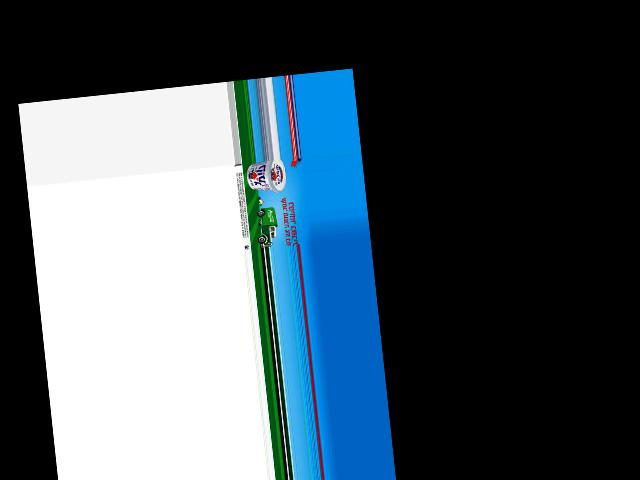cotage: (245, 159, 287, 194)
